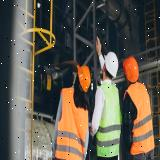Helmet: (122, 56, 140, 84), (104, 50, 119, 79), (76, 64, 91, 92)
Vest: (122, 83, 156, 155), (56, 86, 89, 160), (96, 84, 122, 159)
